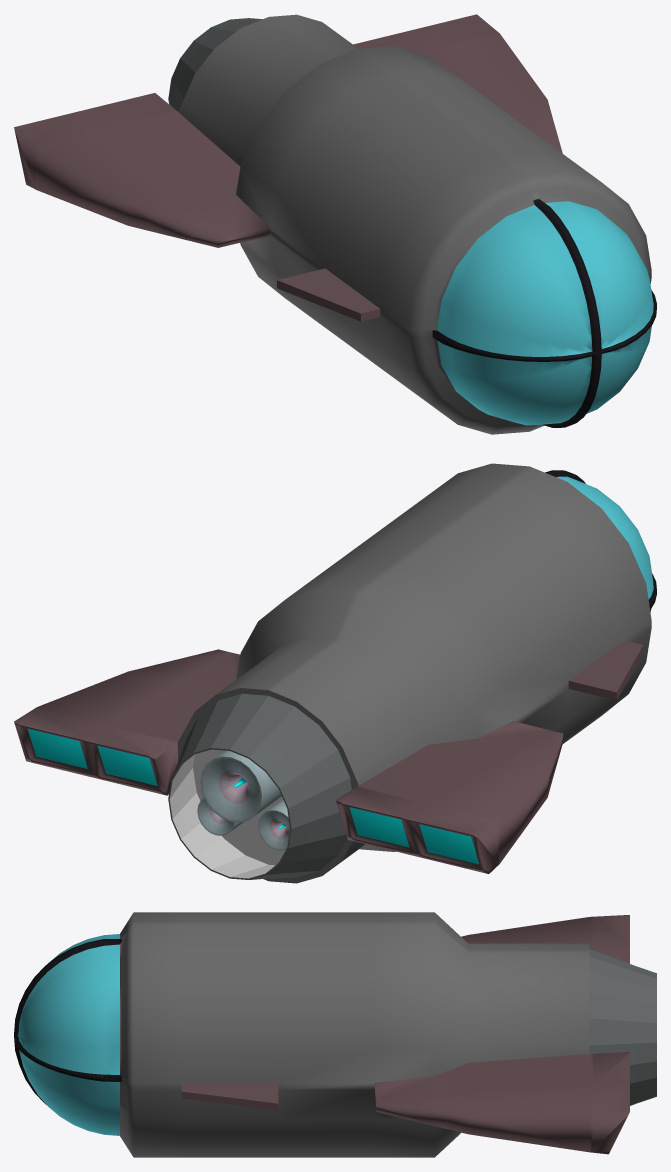
Rendered from 1 Escape Pod Final.fbx.
3 views of the same model, one above another, from view 1: azimuth 30°, elevation 25°; view 2: azimuth 150°, elevation 25°; view 3: azimuth 270°, elevation 25° (orthographic). The views are drawn at different scales.
Visible parts, largest first — view 1: Escape_Pod; view 2: Escape_Pod; view 3: Escape_Pod.
Boxes of the visible parts, x1,y1,x2,y2 form: Escape_Pod: (14, 14, 656, 434); Escape_Pod: (14, 463, 656, 883); Escape_Pod: (14, 912, 656, 1157).
Size of the model in its own units: 4.58 by 2.42 by 6.31.
